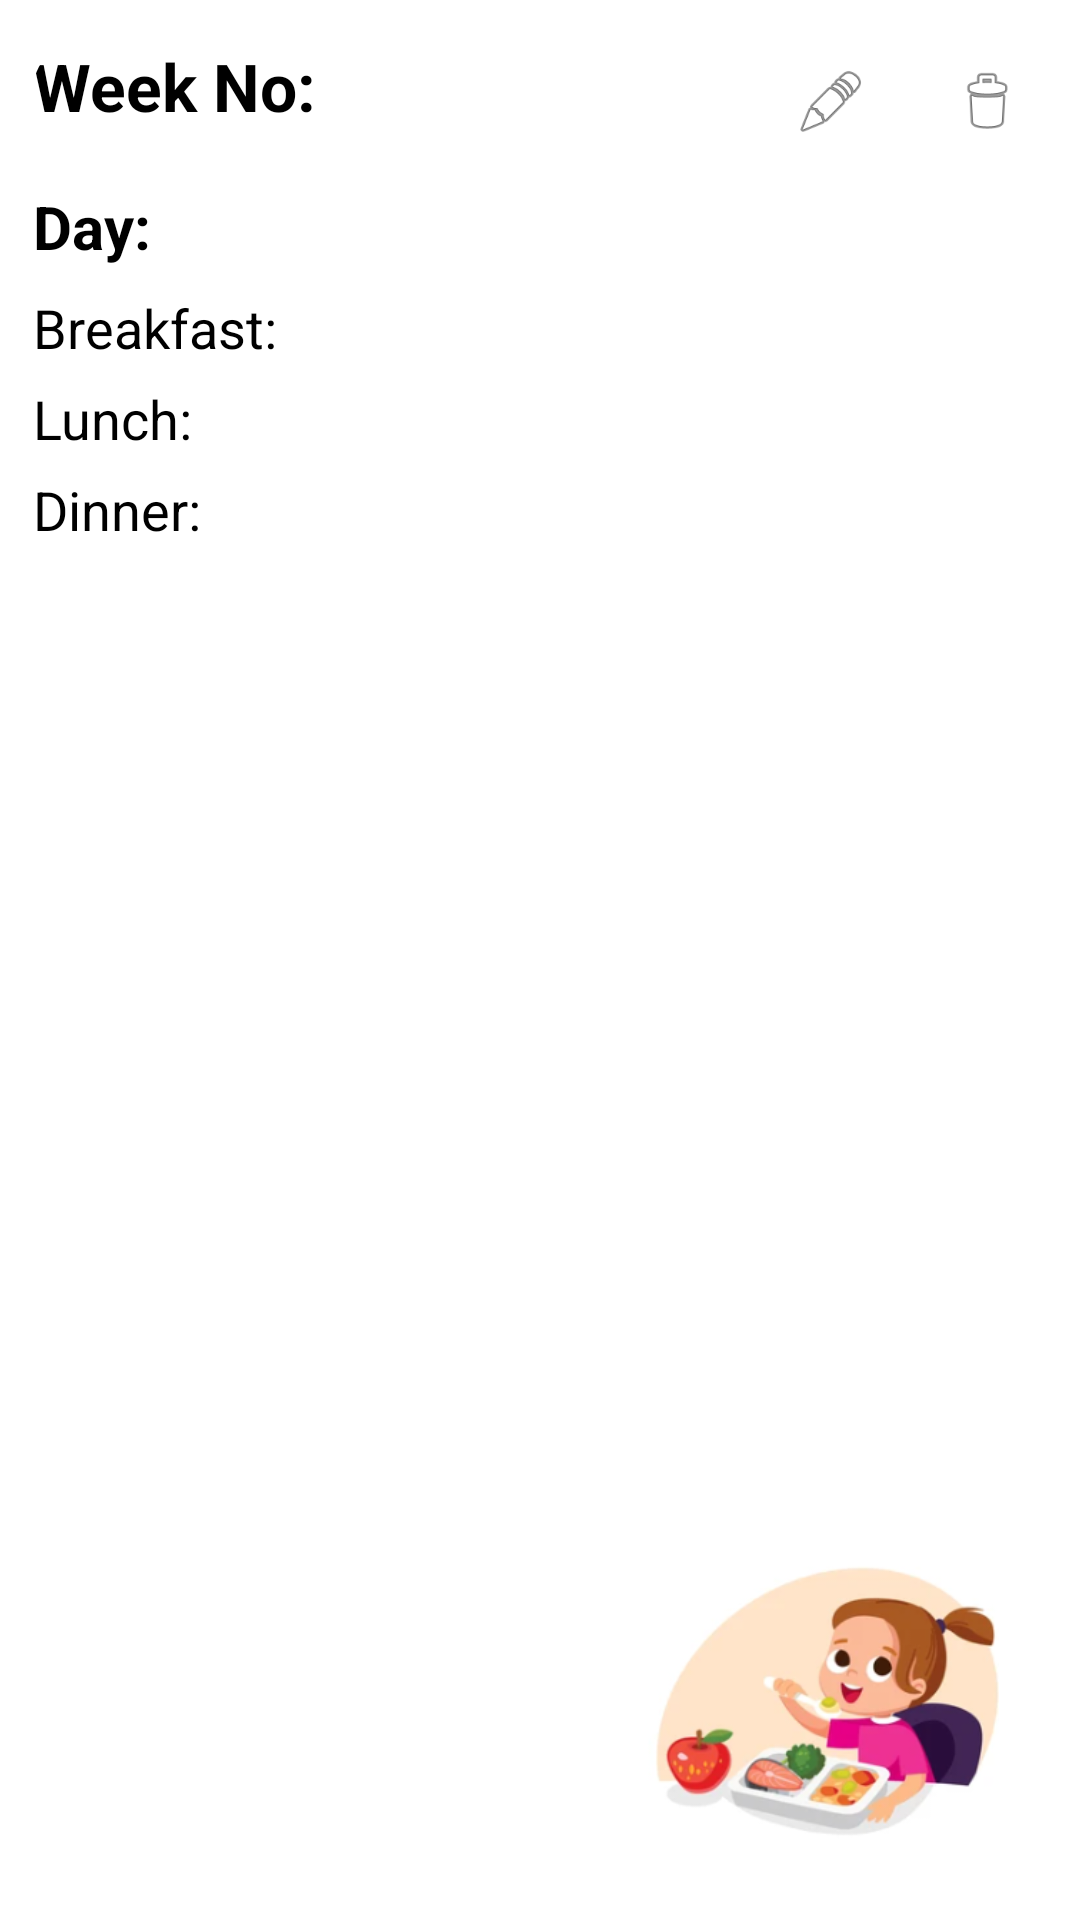

Icon bounding boxes for this 1080×1920 phone screenshot, format (x1, y1, x2, y2):
Card Image: (657, 1568, 998, 1830)
Delete: (967, 73, 1008, 129)
Edit: (800, 71, 861, 132)
